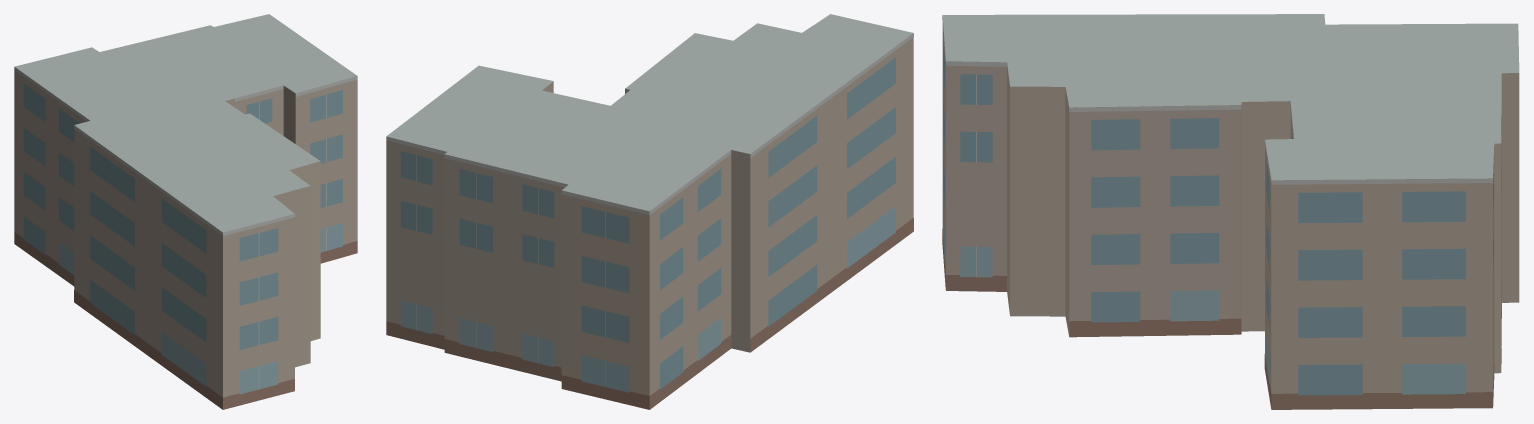
Rendered from survey-upis-32754192.glb.
The picture shows the model from 3 angles, left to right: view 1: azimuth 30°, elevation 25°; view 2: azimuth 150°, elevation 25°; view 3: azimuth 270°, elevation 25°; orthographic projection. The views are drawn at different scales.
Parts seen in each view (by area): view 1: survey-upis-32754192.tmp; view 2: survey-upis-32754192.tmp; view 3: survey-upis-32754192.tmp.
Part boxes in pixels (x1,y1,x2,y2): survey-upis-32754192.tmp: (14,14,357,409); survey-upis-32754192.tmp: (386,14,913,409); survey-upis-32754192.tmp: (942,14,1519,409).
Size of the model in its own units: 19.1 by 12.3 by 28.01.
